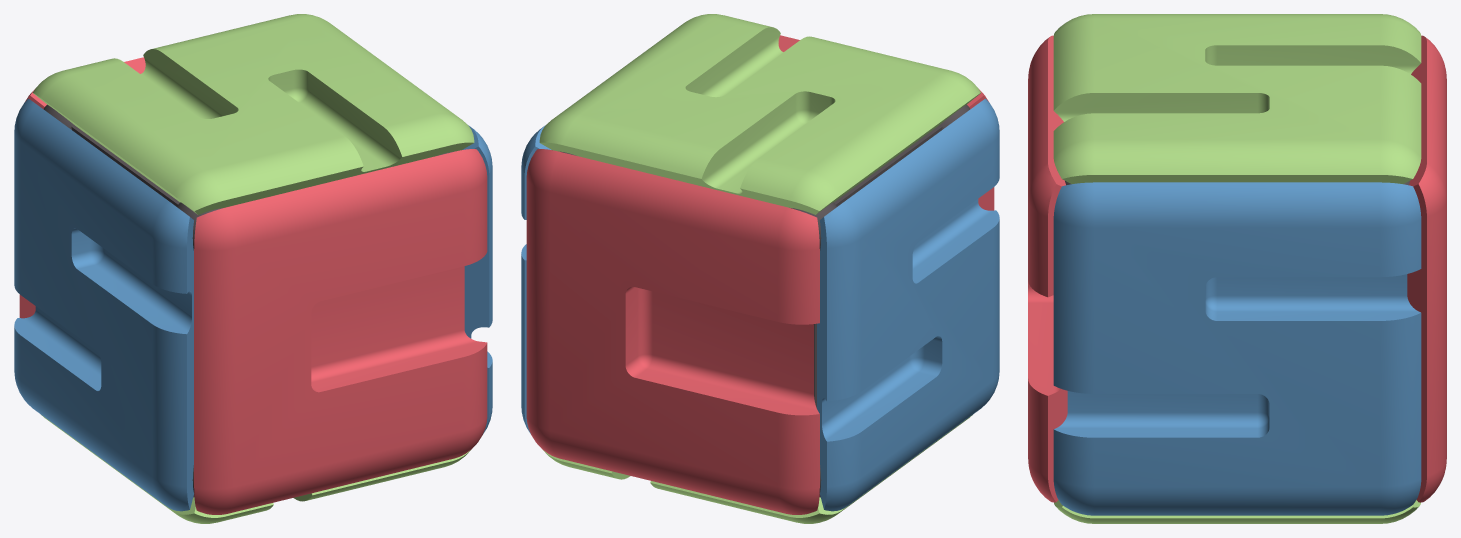
3 views of the same model, side by side, from view 1: azimuth 30°, elevation 25°; view 2: azimuth 150°, elevation 25°; view 3: azimuth 270°, elevation 25° (orthographic). The views are drawn at different scales.
Visible parts, largest first — view 1: red_C, blue_S, green_S, core; view 2: red_C, blue_S, green_S, core; view 3: blue_S, green_S, red_C.
Boxes of the visible parts, x1,y1,x2,y2 form: red_C: (19,57,487,514); blue_S: (14,98,492,511); green_S: (33,14,474,523); core: (43,104,453,497); red_C: (526,35,994,514); blue_S: (521,98,999,511); green_S: (539,14,980,523); core: (560,104,970,497); blue_S: (1053,182,1421,515); green_S: (1053,14,1421,523); red_C: (1028,35,1446,502).
Bounding box in the file's own units: 1.04 × 1.04 × 1.04.
